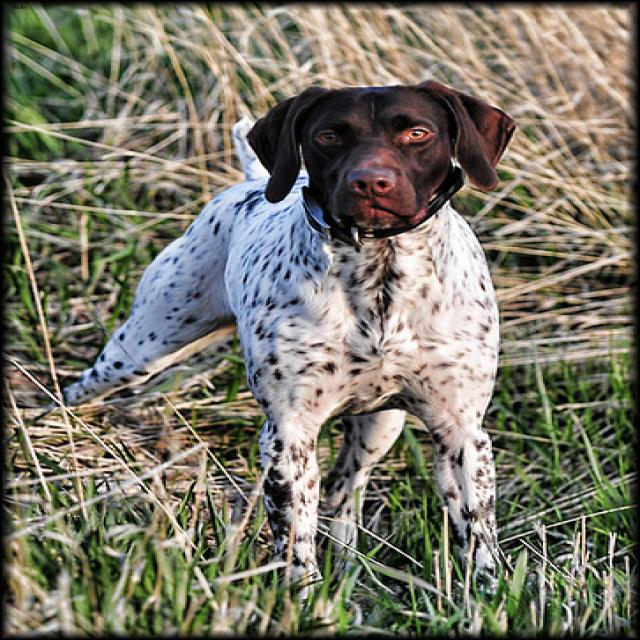dog-german_shorthaired: (53, 72, 529, 608)
